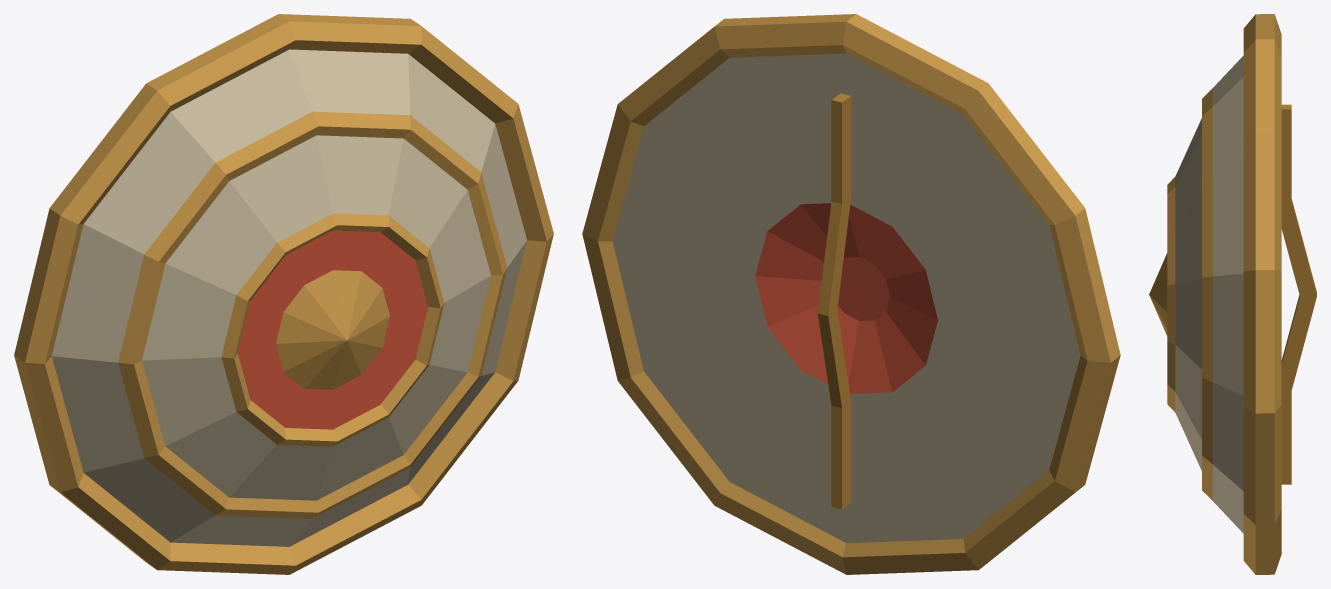
The model's file is SM_pwe_gauls_shield_05.fbx.
The picture shows the model from 3 angles, left to right: view 1: azimuth 30°, elevation 25°; view 2: azimuth 150°, elevation 25°; view 3: azimuth 270°, elevation 25°; orthographic projection. The views are drawn at different scales.
Parts seen in each view (by area): view 1: SM_pwe_gauls_shield_05; view 2: SM_pwe_gauls_shield_05; view 3: SM_pwe_gauls_shield_05.
Boxes of the visible parts, bbox=[...] form: SM_pwe_gauls_shield_05: bbox=[14, 14, 553, 574]; SM_pwe_gauls_shield_05: bbox=[582, 14, 1120, 574]; SM_pwe_gauls_shield_05: bbox=[1149, 14, 1316, 574].
Bounding box in the file's own units: 70.6 × 70.53 × 21.03.
